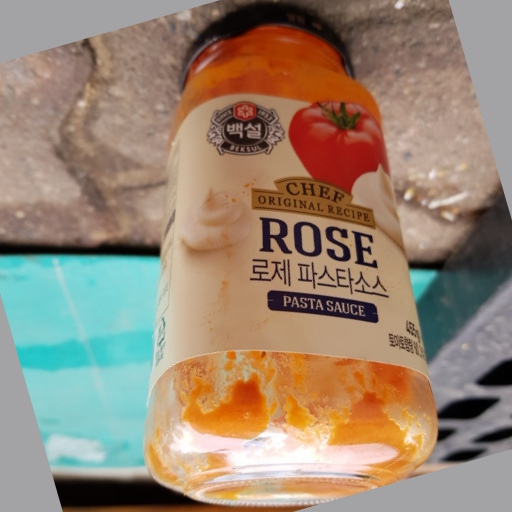Glass_5: (160, 12, 437, 497)
